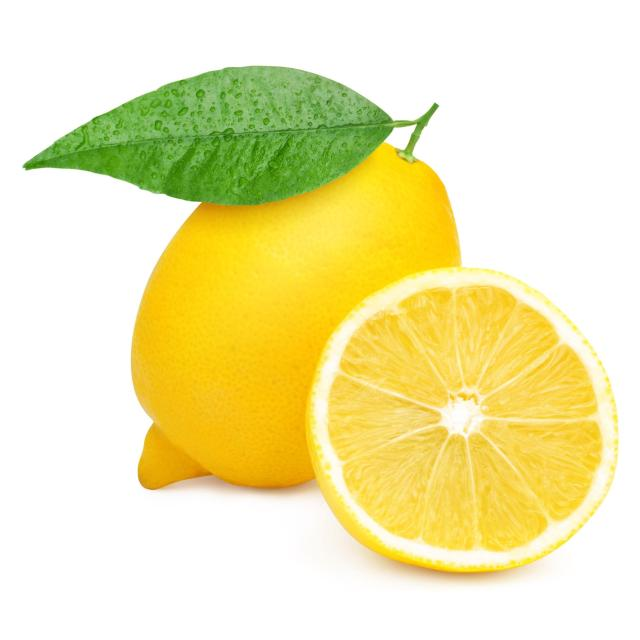lemon: (302, 264, 622, 578)
